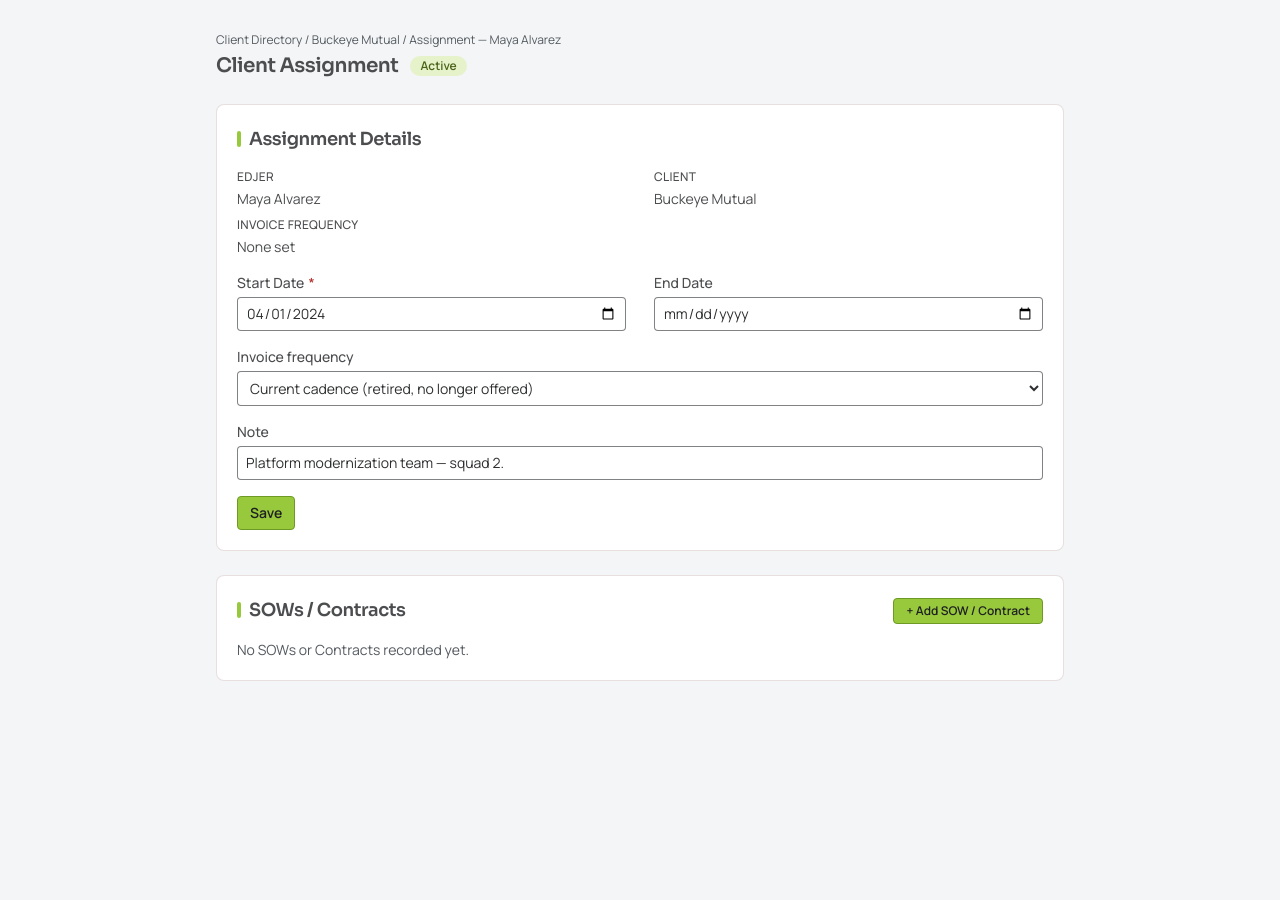
it: AssignmentDetailPage › SOWs / Contracts (US3, #66) › still defaults to Initial Contract when the assignment has no contract periods yet
Click the button "+ Add SOW / Contract" at point(968, 610), box left=894, top=598, right=1043, bottom=624
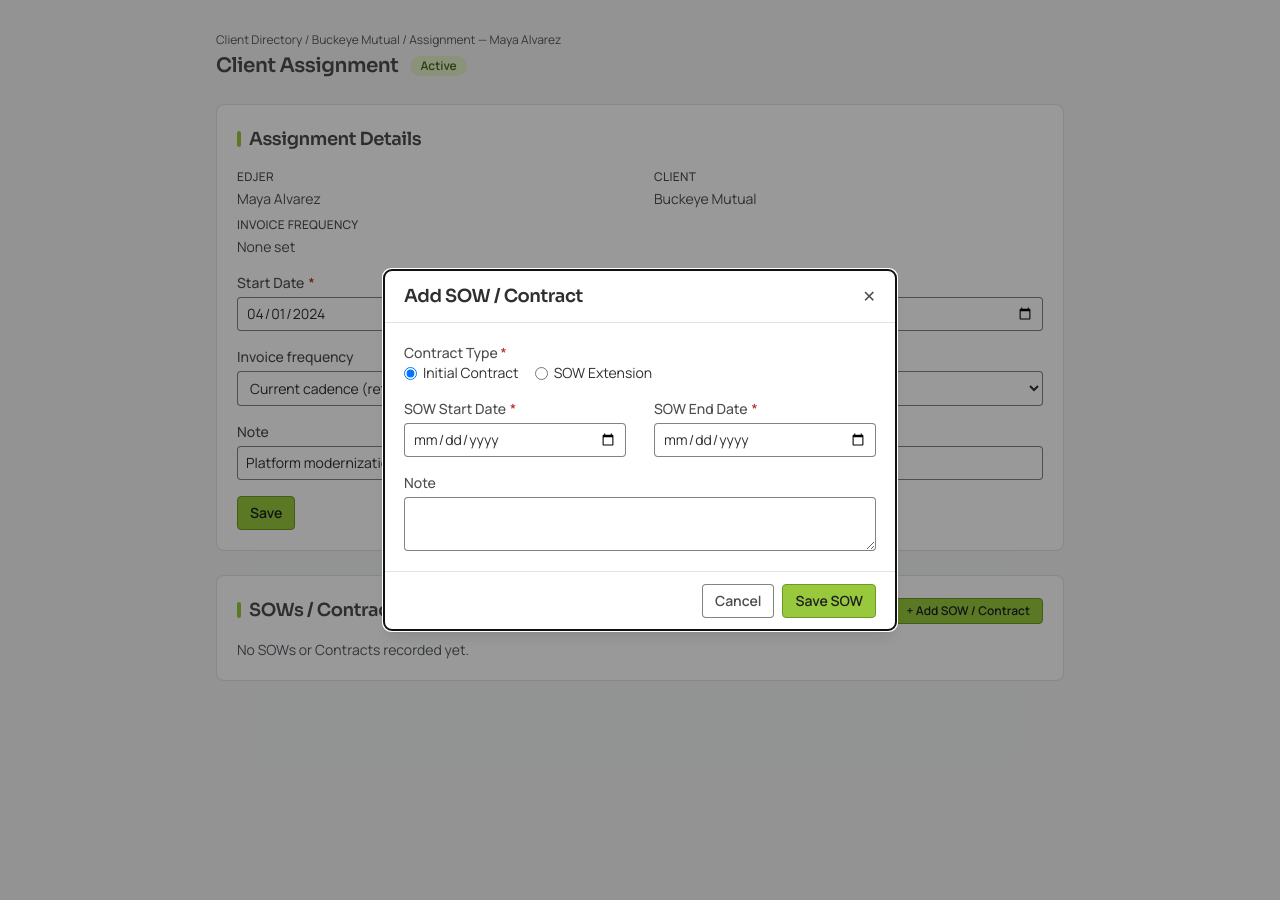
Result: the radio button labelled "Initial Contract" is checked at left=404, top=366, right=417, bottom=380
